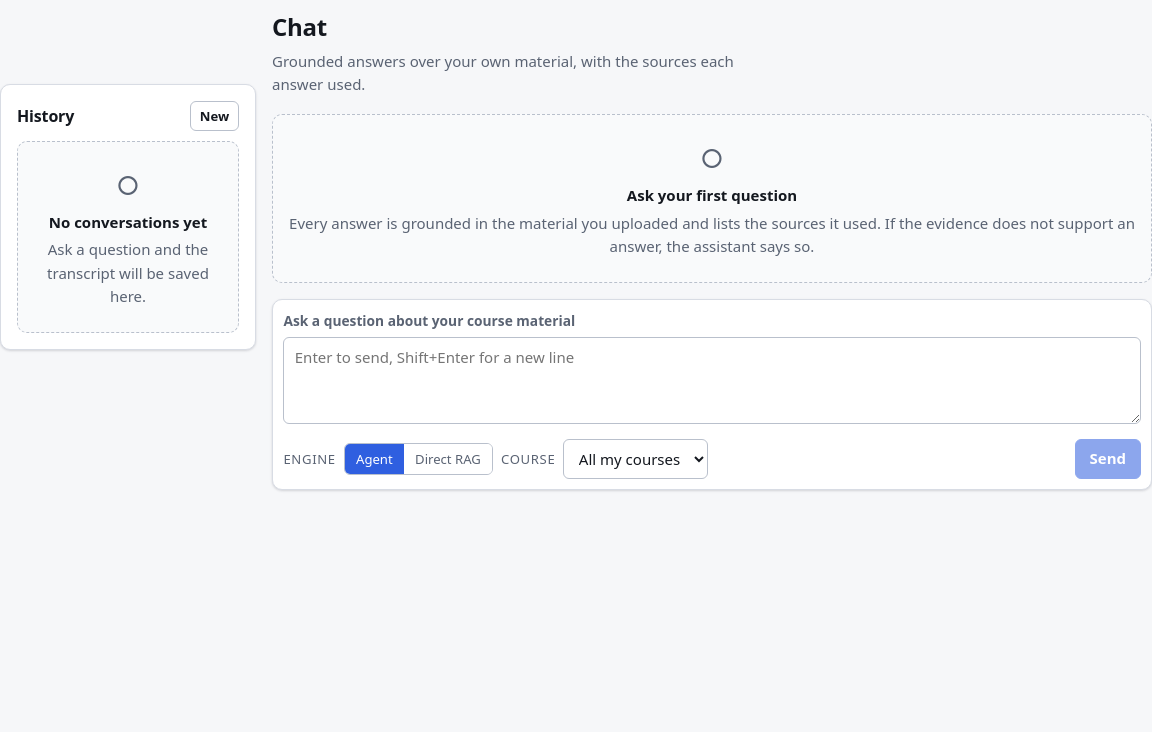
Test case: chat streaming › renders streamed tokens incrementally, before the turn completes
Type "What is an eigenvalue?" into the text box labelled "Ask a question about your course material" at (712, 380), box [283,337,1141,424]
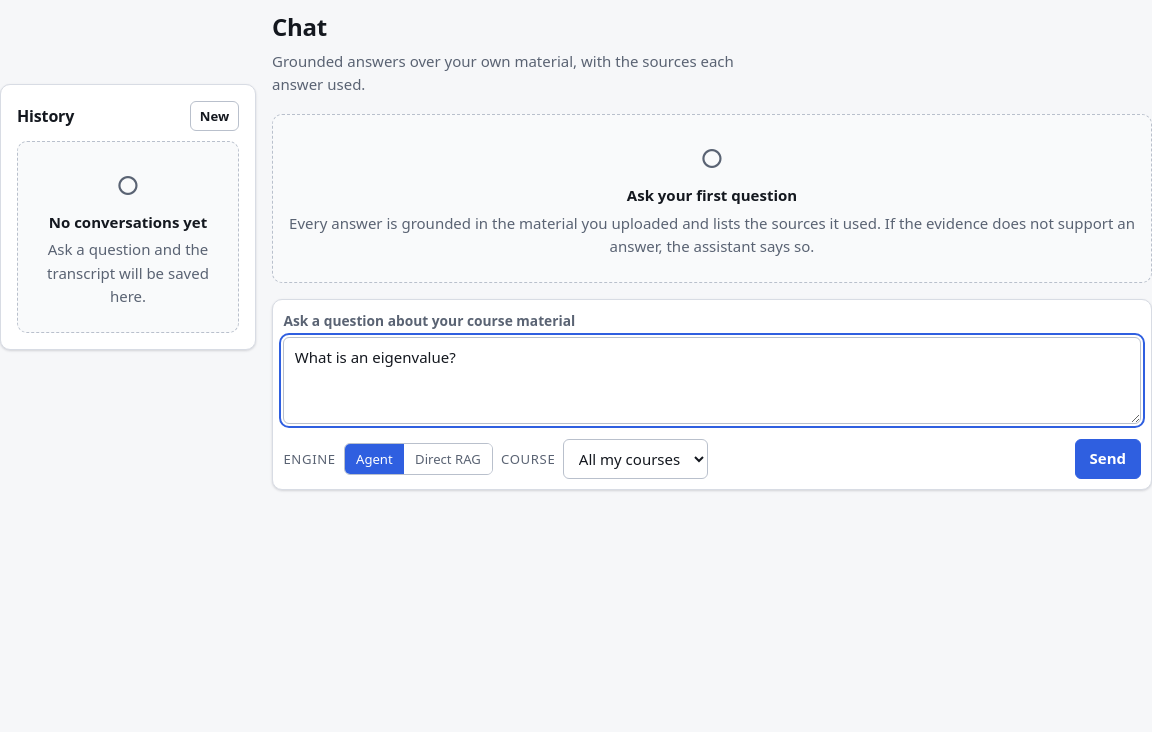
Click the button "Send" at (1108, 459), box [1075,439,1141,478]
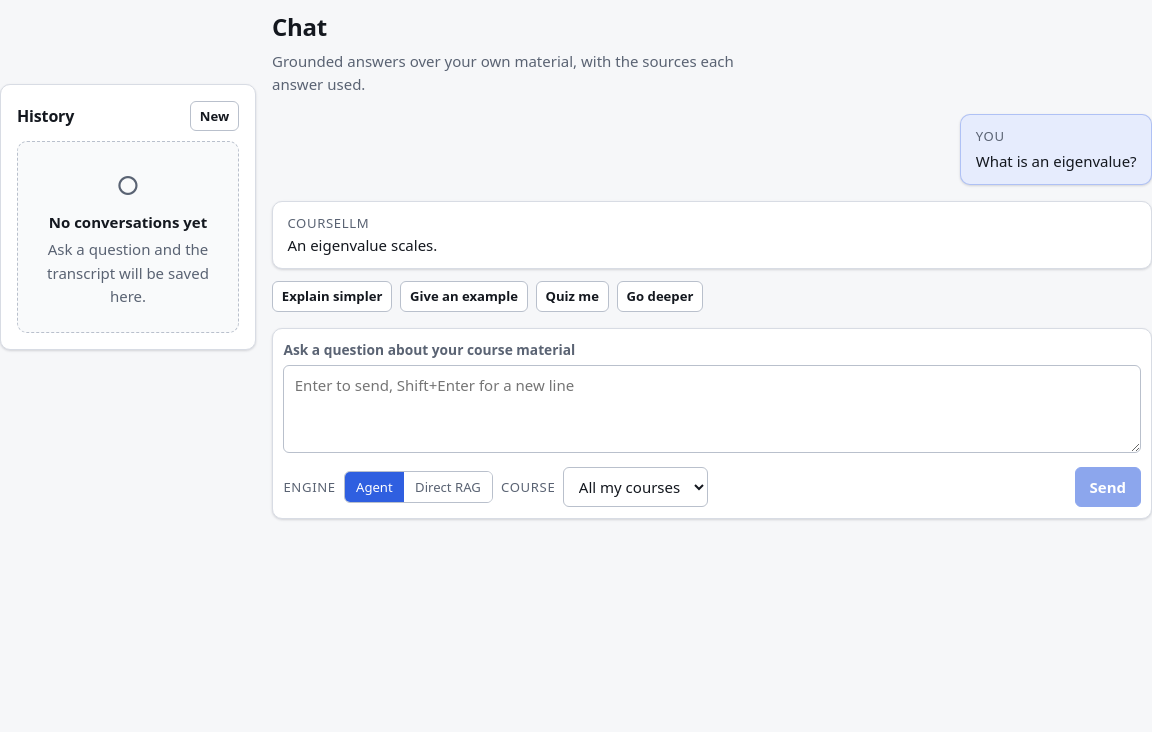
Expected: the button "Send" is shown, [1075,467,1141,507]
Result: the text "An eigenvalue scales." is shown at [287,235,437,255]
